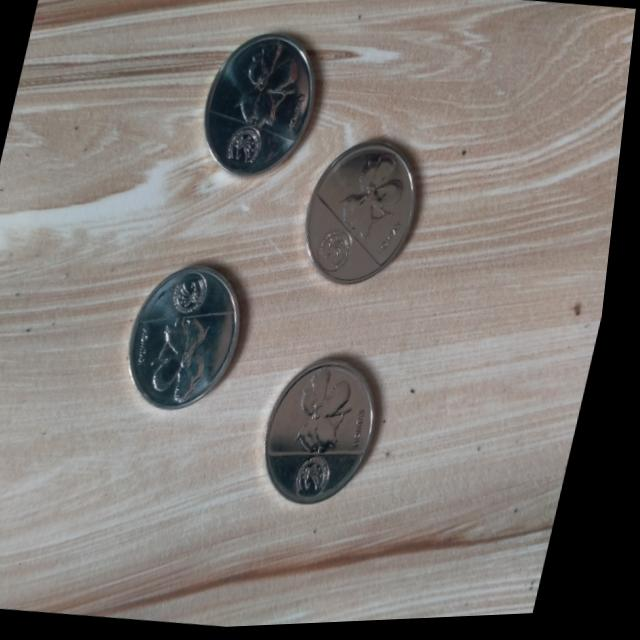25Cent_New_Back: (313, 145, 422, 280), (286, 357, 373, 505)
